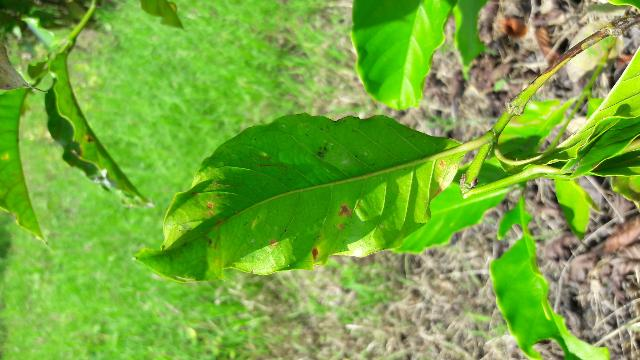rust_level_2: (159, 119, 453, 271)
